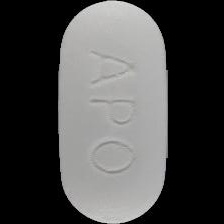60429-643: (0, 0, 224, 224)
